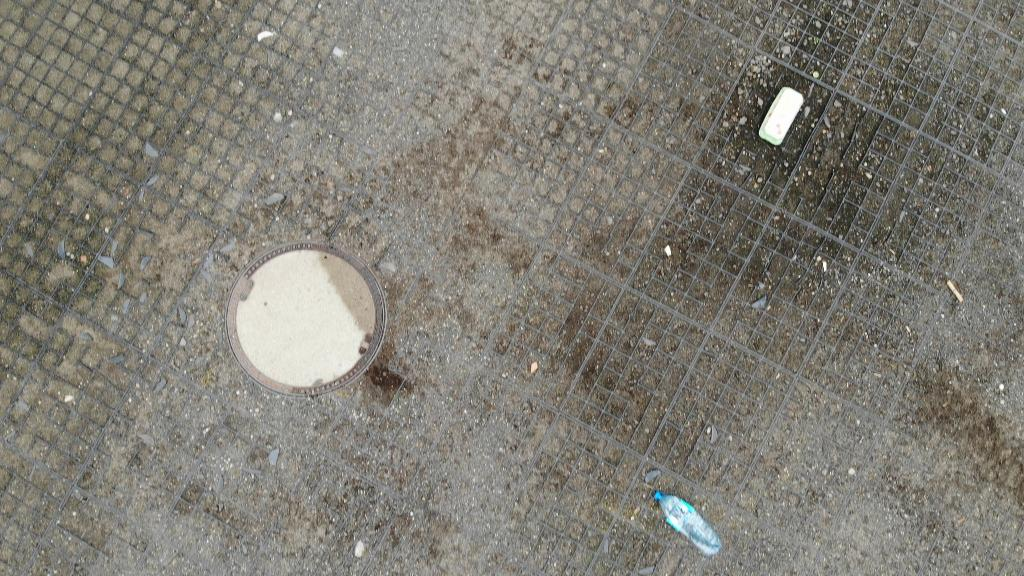garbage: (655, 492, 726, 558)
